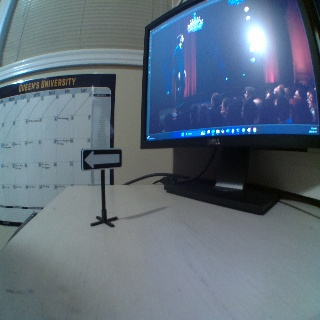sign_oneway_left: (81, 148, 121, 168)
